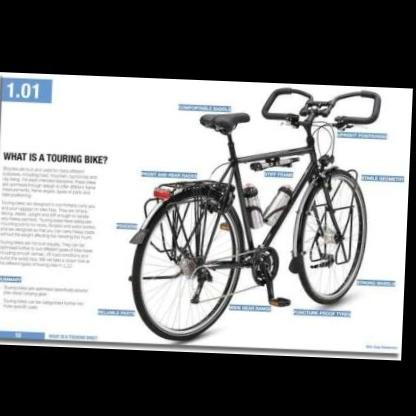Bicycle: (120, 82, 399, 349)
